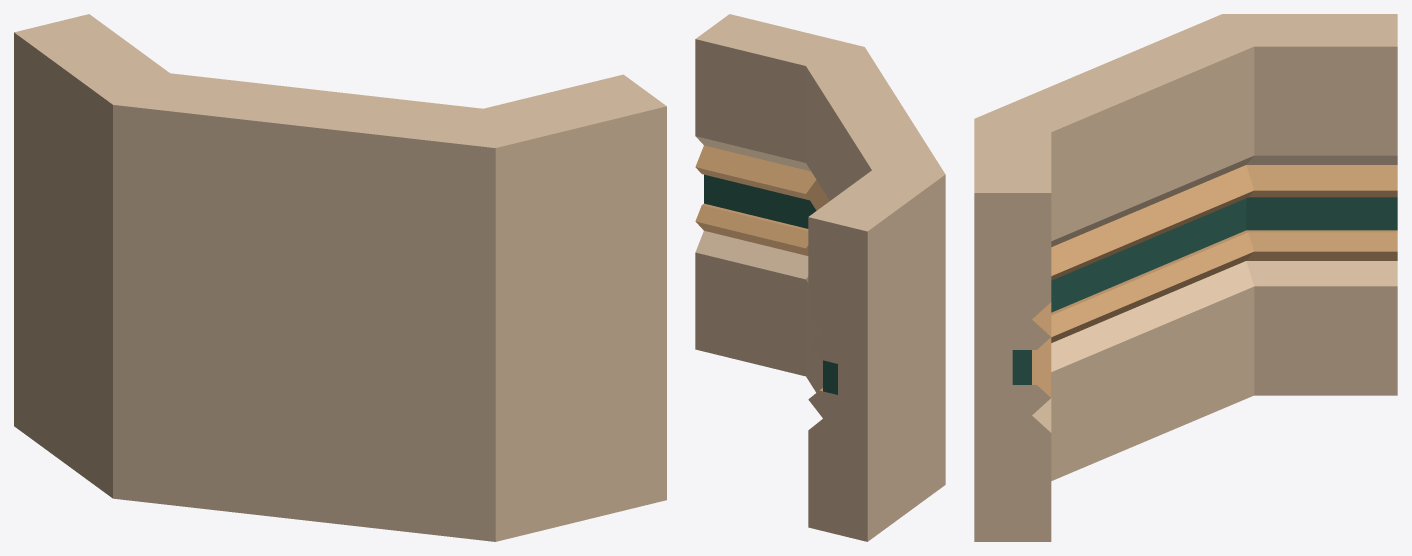
The model's file is Puzzle_Wall_Conduit_Path_Curved_Small_Inner.fbx.
The picture shows the model from 3 angles, left to right: view 1: azimuth 30°, elevation 25°; view 2: azimuth 150°, elevation 25°; view 3: azimuth 270°, elevation 25°; orthographic projection. The views are drawn at different scales.
Parts seen in each view (by area): view 1: Sandstone_Trim.Sandstone_Trim.Sandstone_Trim.Sandstone_Trim.; view 2: Sandstone_Trim.Sandstone_Trim.Sandstone_Trim.Sandstone_Trim., Sandstone_5.Sandstone_5.Sandstone_5.Sandstone_5.Sandstone_5, object1; view 3: Sandstone_Trim.Sandstone_Trim.Sandstone_Trim.Sandstone_Trim., Sandstone_5.Sandstone_5.Sandstone_5.Sandstone_5.Sandstone_5, object1.
Boxes of the visible parts, x1,y1,x2,y2 form: Sandstone_Trim.Sandstone_Trim.Sandstone_Trim.Sandstone_Trim.: [14, 14, 666, 541]; Sandstone_Trim.Sandstone_Trim.Sandstone_Trim.Sandstone_Trim.: [695, 14, 945, 541]; Sandstone_5.Sandstone_5.Sandstone_5.Sandstone_5.Sandstone_5: [695, 145, 829, 391]; object1: [704, 174, 837, 394]; Sandstone_Trim.Sandstone_Trim.Sandstone_Trim.Sandstone_Trim.: [974, 14, 1397, 541]; Sandstone_5.Sandstone_5.Sandstone_5.Sandstone_5.Sandstone_5: [1032, 165, 1397, 397]; object1: [1012, 197, 1397, 384].
Size of the model in its own units: 1.1 by 1 by 1.1.
